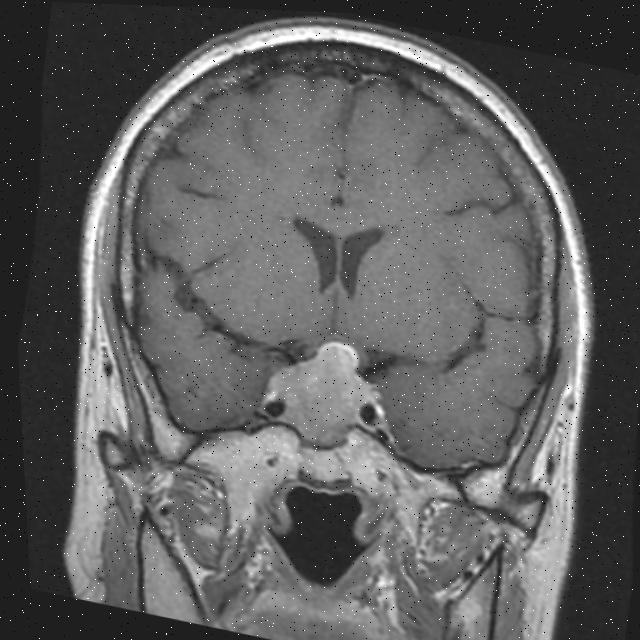Pituitary: (254, 326, 379, 453), (294, 440, 354, 489)
